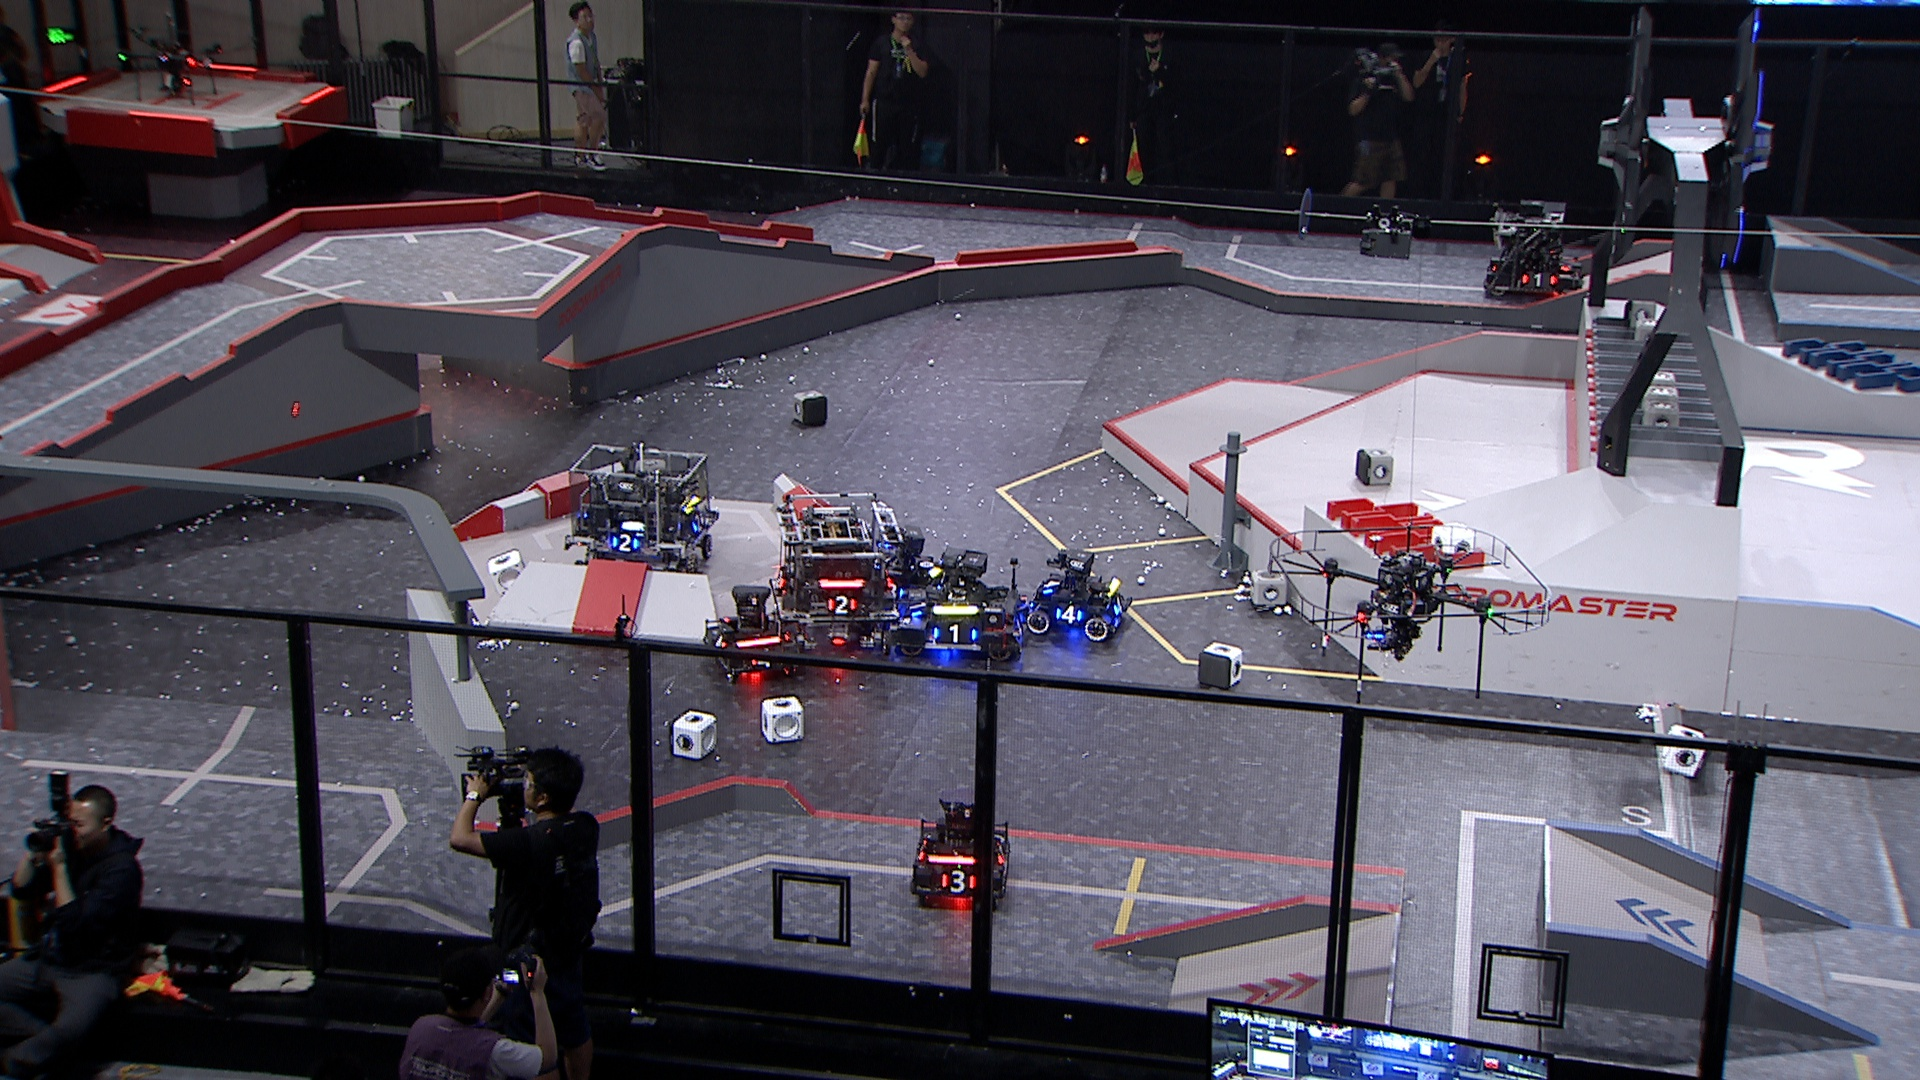armor: (930, 622, 981, 645), (940, 868, 975, 894), (746, 645, 781, 670), (825, 593, 858, 617), (611, 531, 641, 555), (1519, 273, 1561, 289), (1054, 605, 1087, 622), (909, 593, 930, 618), (1043, 572, 1063, 595), (1013, 615, 1029, 641), (688, 510, 707, 533), (771, 566, 789, 589), (1112, 593, 1127, 618), (709, 636, 731, 651)
car: (764, 489, 905, 654), (562, 442, 717, 574), (891, 542, 1033, 666), (910, 794, 1011, 909), (699, 579, 806, 684), (1482, 195, 1585, 302), (1025, 546, 1134, 642)
